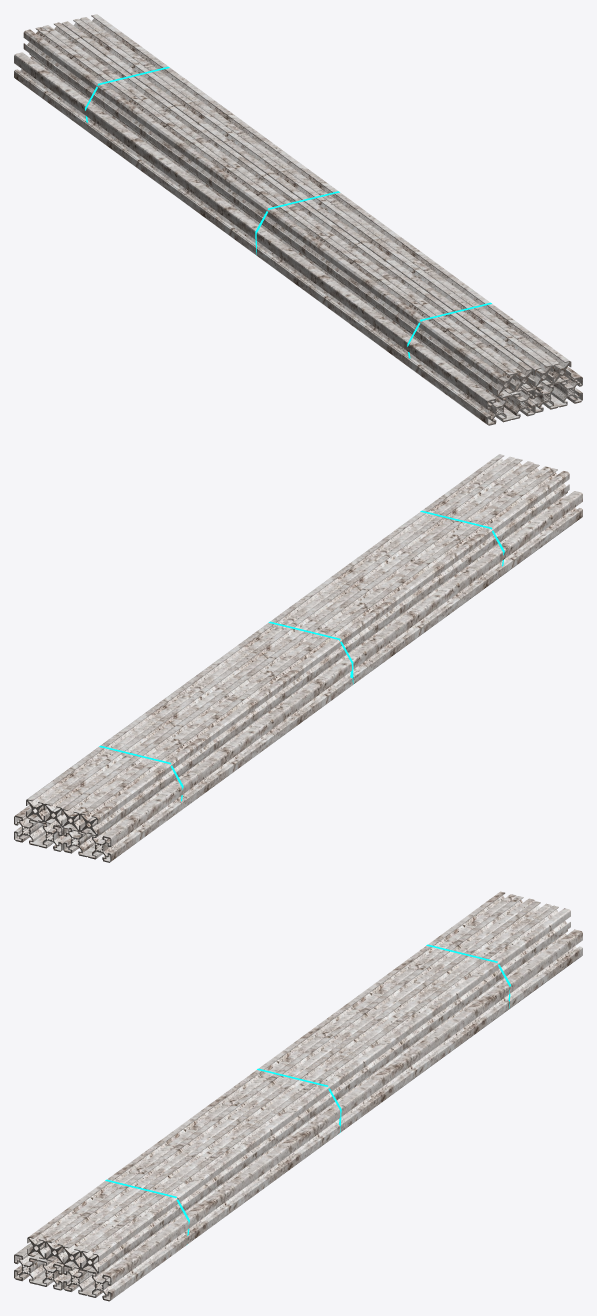
File: craft_r02_heliostat_rail.glb
3 renders of one model, top to bottom at view 1: azimuth 30°, elevation 25°; view 2: azimuth 150°, elevation 25°; view 3: azimuth 330°, elevation 25°, orthographic.
Parts seen in each view (by area): view 1: craft_r02_heliostat_rail; view 2: craft_r02_heliostat_rail; view 3: craft_r02_heliostat_rail.
Part boxes in pixels (left/top/right/bottom): craft_r02_heliostat_rail: left=14, top=14, right=582, bottom=425; craft_r02_heliostat_rail: left=14, top=454, right=582, bottom=862; craft_r02_heliostat_rail: left=14, top=891, right=582, bottom=1301.
Size of the model in its own units: 0.8028 by 0.3558 by 6.79.
Materials: 3 (2 with a texture image).
